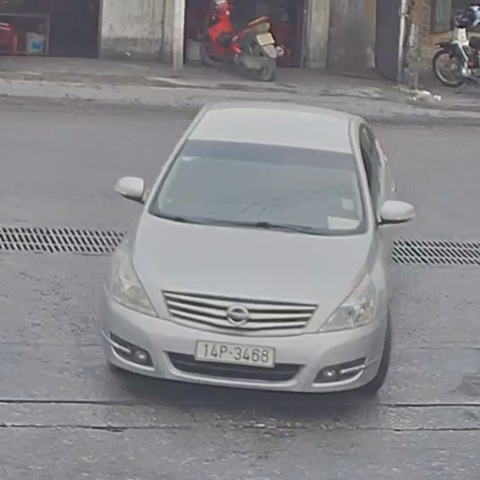vehicle plate: (193, 334, 282, 367)
